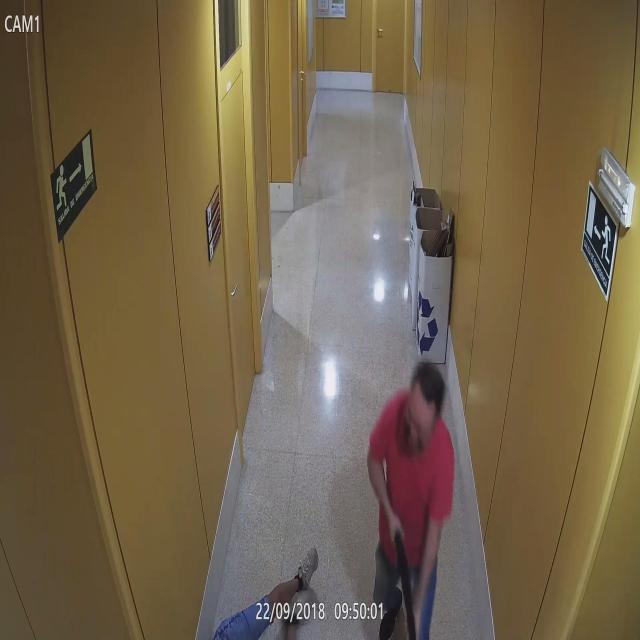pistol: (391, 525, 417, 640)
